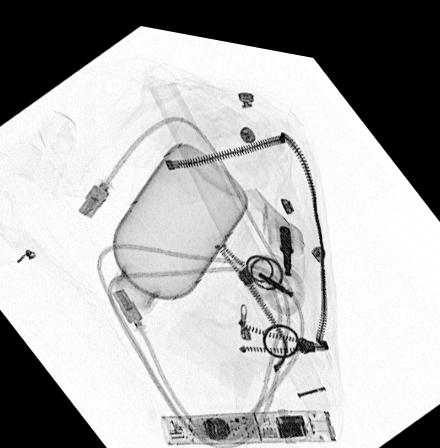Baton: (158, 396, 336, 440)
